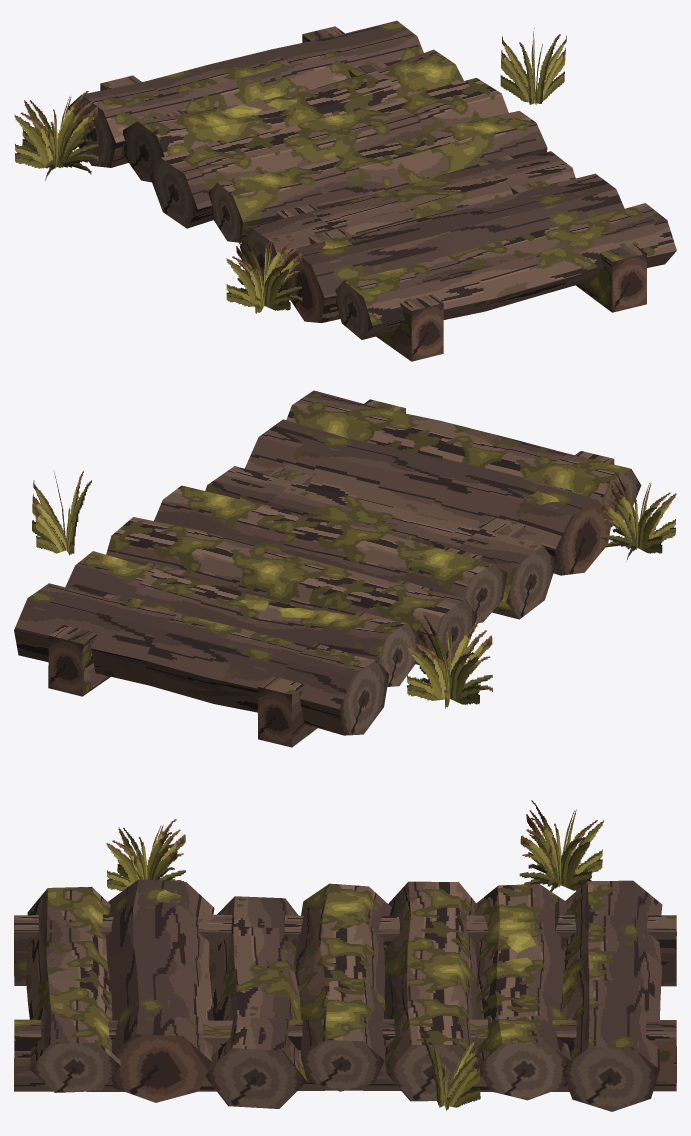
Rendered from SM_SW13_CorduroyStraight.fbx.
The picture shows the model from 3 angles, top to bottom: view 1: azimuth 30°, elevation 25°; view 2: azimuth 150°, elevation 25°; view 3: azimuth 270°, elevation 25°; orthographic projection. The views are drawn at different scales.
Parts seen in each view (by area): view 1: SW13a_Bark, SW13a_Props, SW13a_Plants, SW13a_Moss; view 2: SW13a_Bark, SW13a_Props, SW13a_Plants, SW13a_Moss; view 3: SW13a_Bark, SW13a_Props, SW13a_Plants, SW13a_Moss.
Part boxes in pixels (bbox=[...]): SW13a_Bark: bbox=[84, 20, 676, 361]; SW13a_Props: bbox=[68, 95, 646, 361]; SW13a_Plants: bbox=[14, 28, 566, 313]; SW13a_Moss: bbox=[221, 98, 352, 248]; SW13a_Bark: bbox=[14, 390, 630, 747]; SW13a_Props: bbox=[48, 469, 641, 747]; SW13a_Plants: bbox=[32, 470, 676, 708]; SW13a_Moss: bbox=[239, 491, 559, 618]; SW13a_Bark: bbox=[14, 879, 676, 1091]; SW13a_Props: bbox=[14, 922, 676, 1111]; SW13a_Plants: bbox=[106, 800, 603, 1110]; SW13a_Moss: bbox=[156, 890, 537, 971].
Bounding box in the file's own units: 3.65 × 0.8672 × 4.
